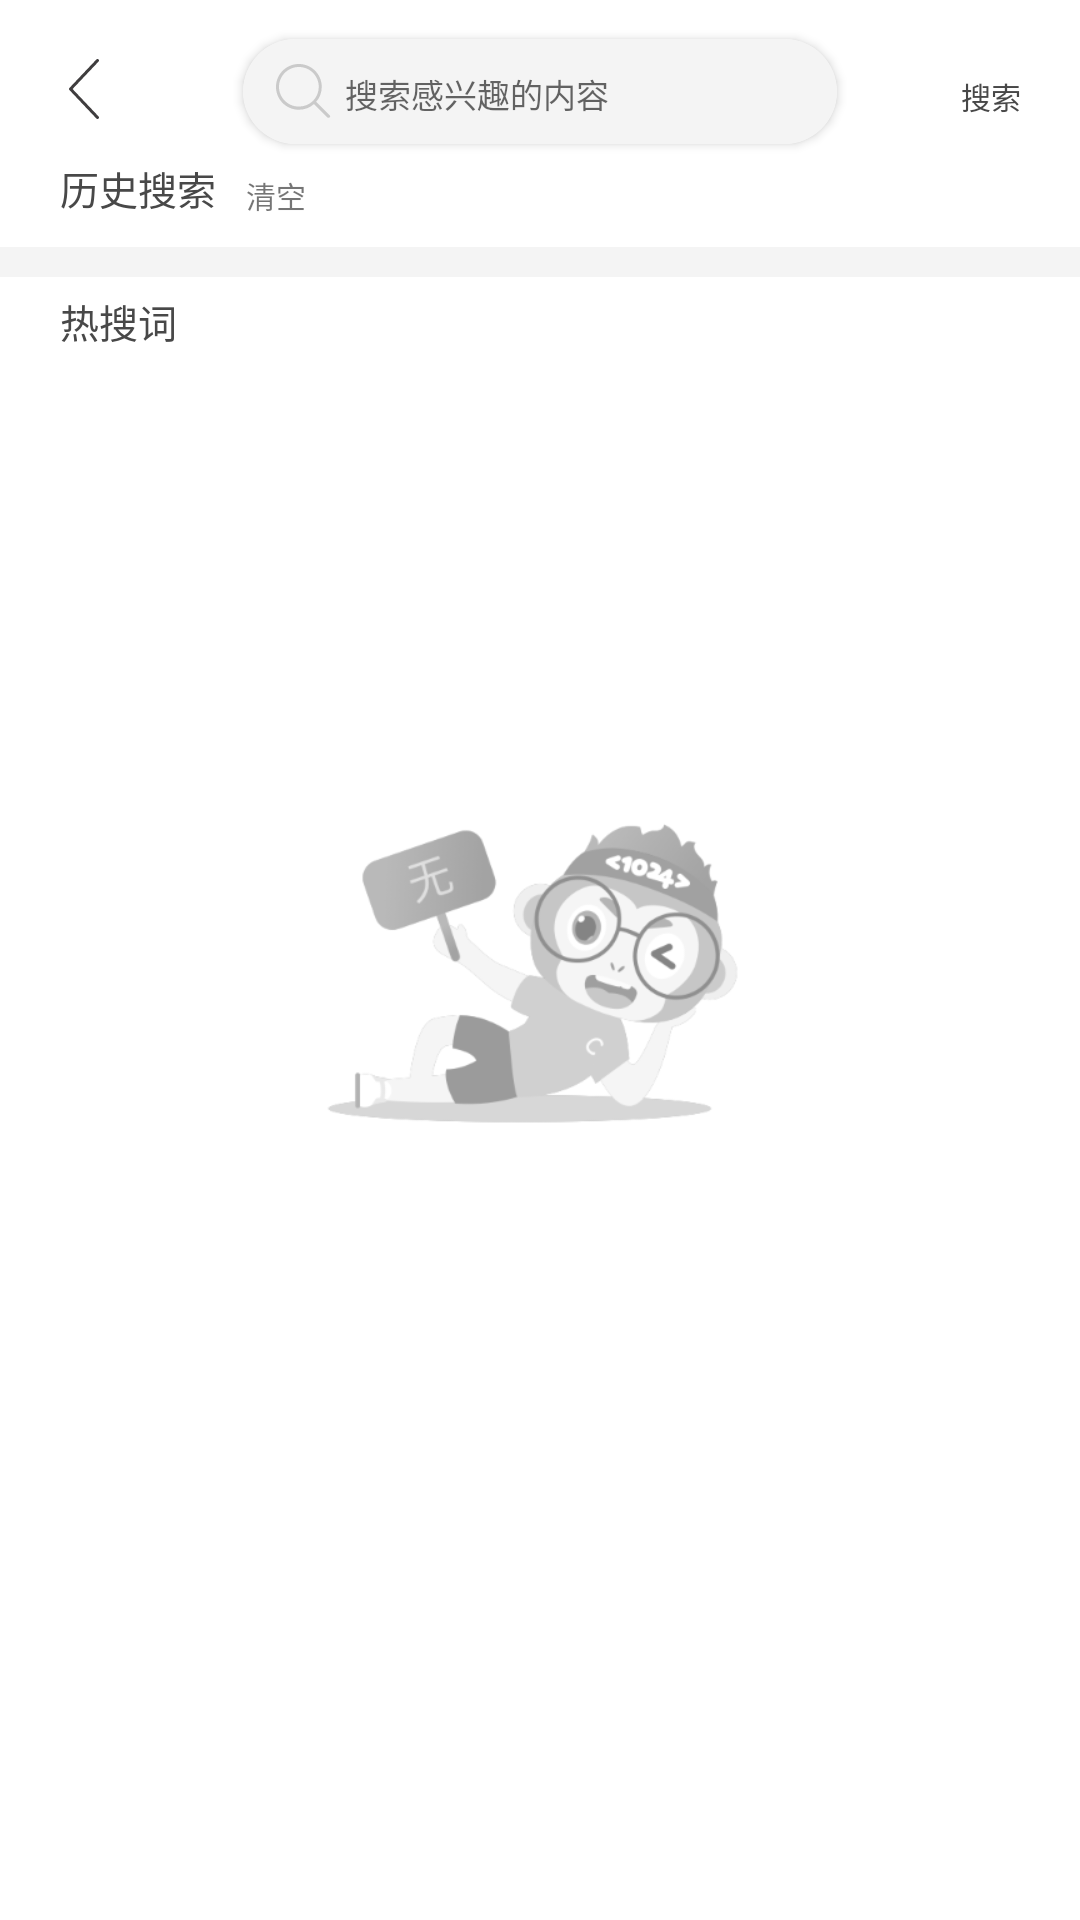

Screen size 1080 × 1920. Icon name, then its center in pixels as point (x, y):
back: point (84, 89)
